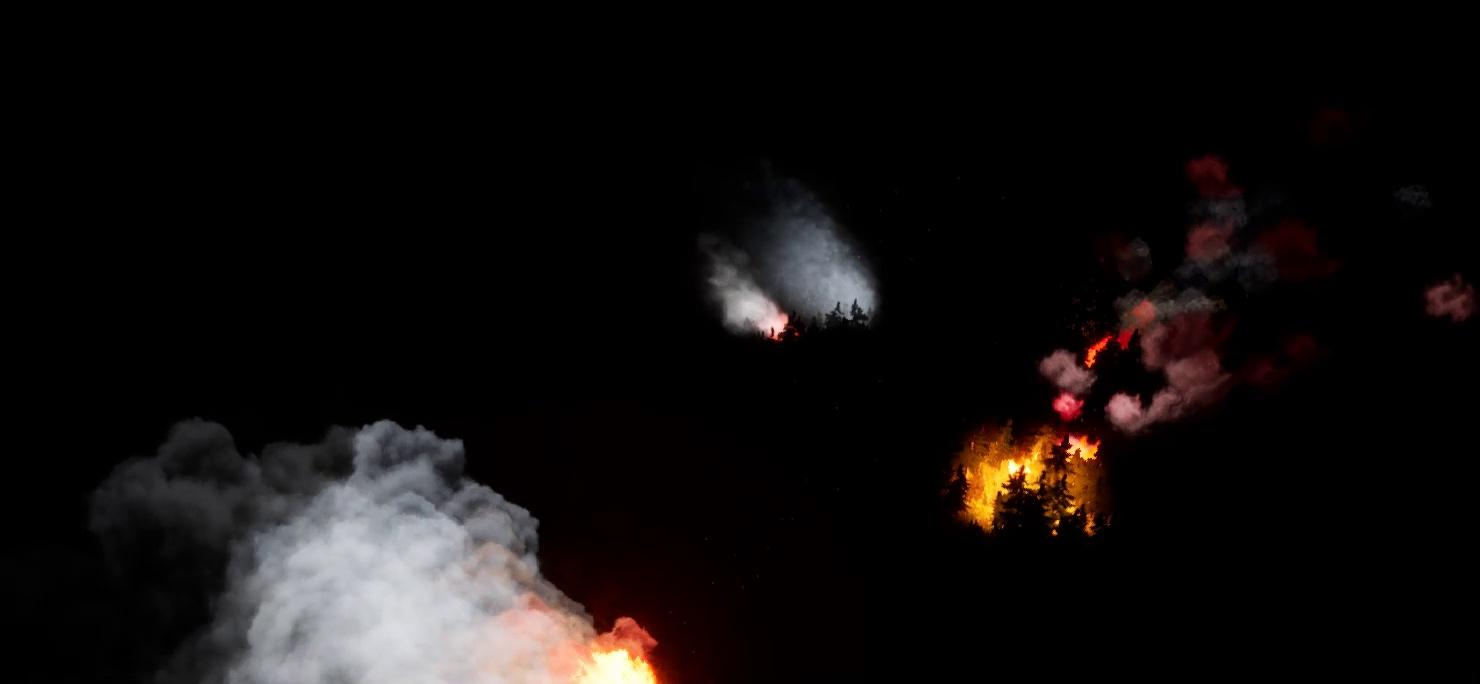fire: (957, 432, 1113, 545), (590, 619, 672, 683)
smoke: (103, 411, 598, 683), (1036, 150, 1264, 437), (695, 201, 895, 337)
